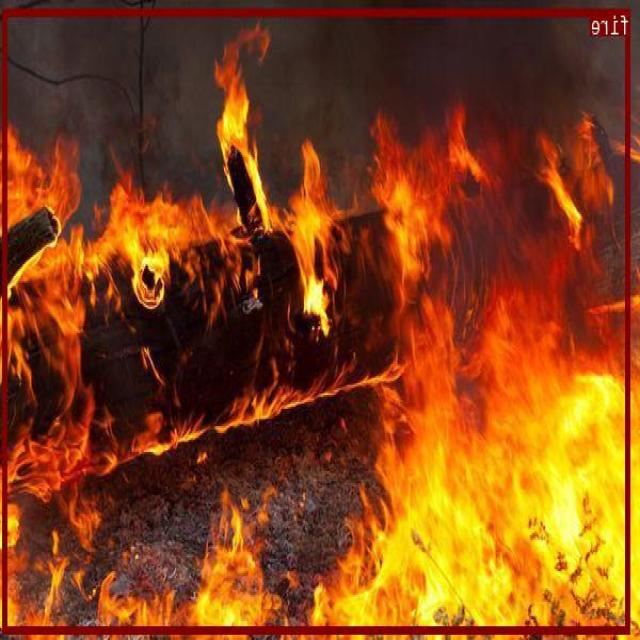fire: (4, 8, 632, 632)
